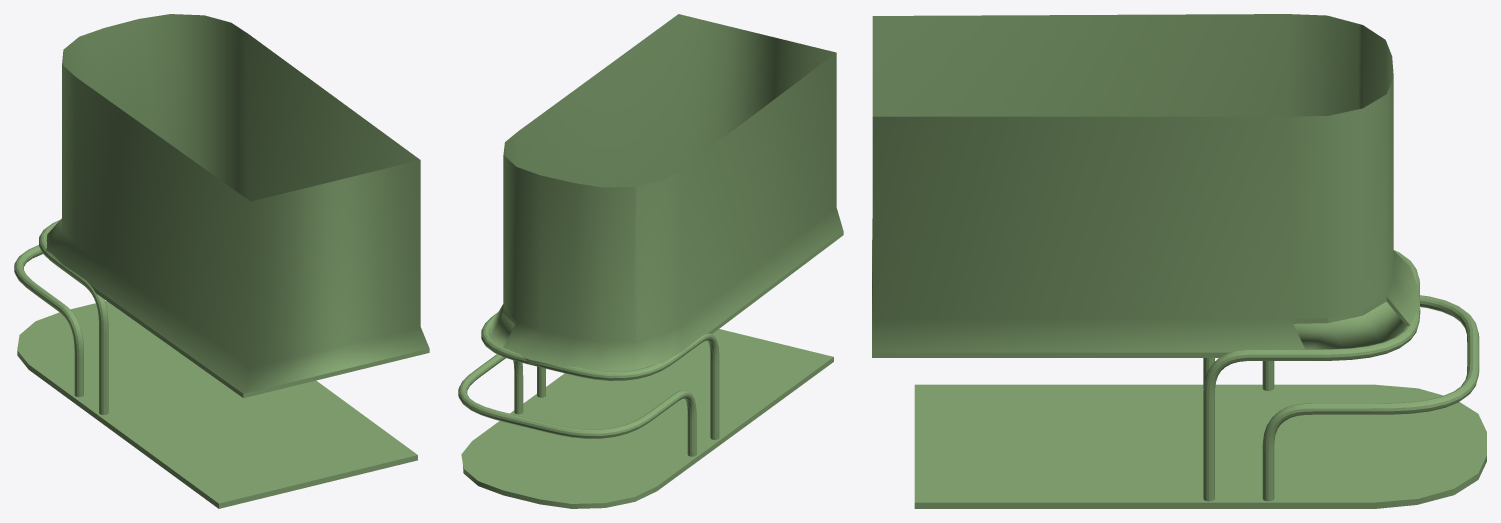
Rendered from RetroSkyscraper.fbx.
3 views of the same model, side by side, from view 1: azimuth 30°, elevation 25°; view 2: azimuth 150°, elevation 25°; view 3: azimuth 270°, elevation 25° (orthographic). The views are drawn at different scales.
Parts seen in each view (by area): view 1: pCube32, pCube31, pCylinder10, pCylinder11; view 2: pCube32, pCube31, pCylinder10, pCylinder11; view 3: pCube32, pCube31, pCylinder10, pCylinder11.
Boxes of the visible parts, x1,y1,x2,y2 form: pCube32: (46, 14, 429, 398); pCube31: (17, 301, 417, 508); pCylinder10: (14, 245, 83, 397); pCylinder11: (39, 220, 108, 414); pCube32: (490, 14, 843, 371); pCube31: (461, 329, 833, 508); pCylinder10: (458, 354, 696, 456); pCylinder11: (481, 312, 719, 439); pCube32: (872, 14, 1420, 357); pCube31: (914, 384, 1486, 508); pCylinder10: (1262, 295, 1479, 501); pCylinder11: (1203, 250, 1419, 501).
Bounding box in the file's own units: 9.95 × 15.11 × 21.95.
